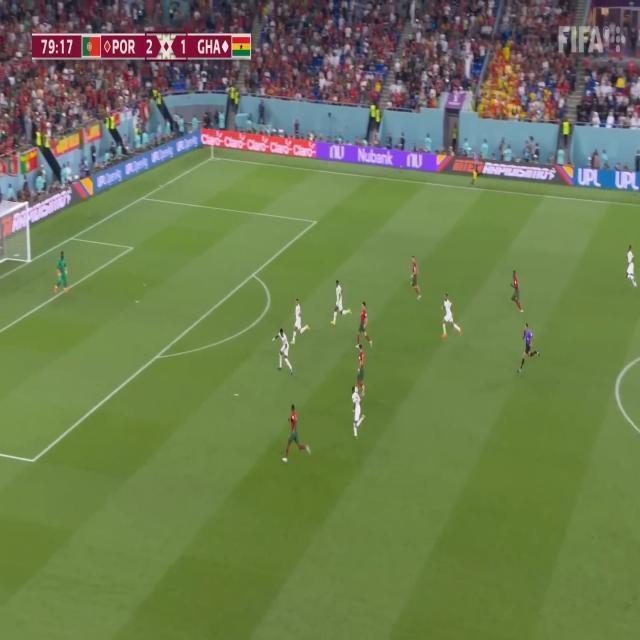player: (281, 398, 313, 469), (516, 320, 541, 378), (345, 382, 368, 440), (290, 293, 313, 349), (330, 276, 353, 331), (440, 288, 460, 347), (273, 323, 295, 376), (508, 269, 528, 311), (357, 297, 371, 349), (56, 248, 70, 299), (353, 344, 366, 398), (410, 253, 422, 308), (626, 242, 637, 292)
